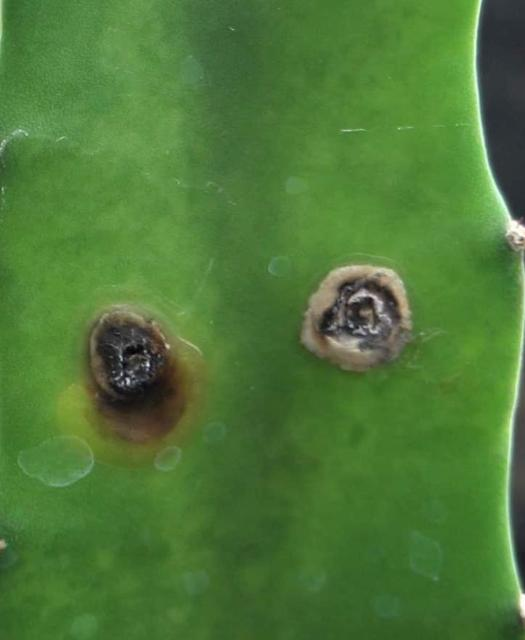stemcanker: (53, 295, 218, 459), (299, 253, 426, 384)
